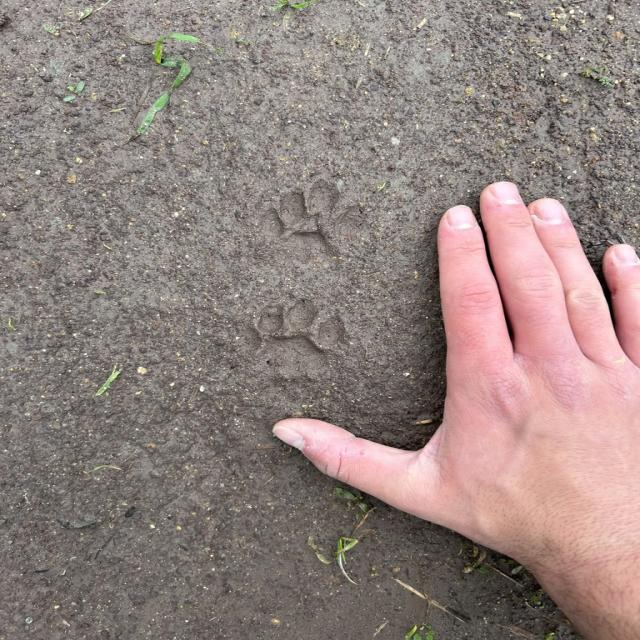felid: (257, 185, 375, 277), (246, 296, 346, 385)
